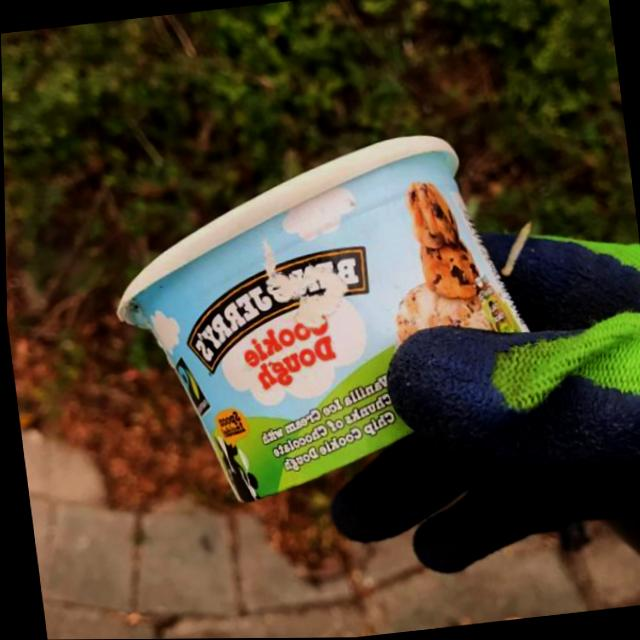Paper: (91, 121, 551, 518)
